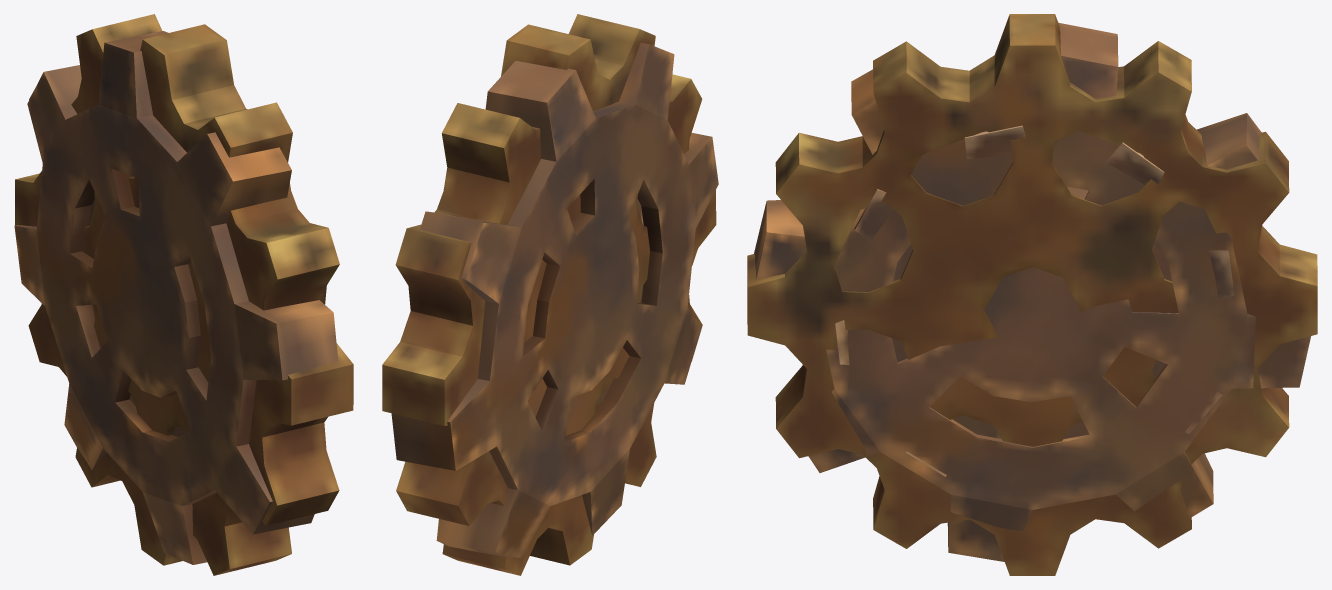
Rendered from F_gears_01.fbx.
3 renders of one model, left to right at view 1: azimuth 30°, elevation 25°; view 2: azimuth 150°, elevation 25°; view 3: azimuth 270°, elevation 25°, orthographic. The views are drawn at different scales.
Parts seen in each view (by area): view 1: f_gear_02, f_gear_01; view 2: f_gear_02, f_gear_01; view 3: f_gear_01, f_gear_02, f_gear_03.
Boxes of the visible parts, x1,y1,x2,y2 form: f_gear_02: [14, 31, 338, 564]; f_gear_01: [15, 14, 353, 575]; f_gear_02: [391, 42, 718, 558]; f_gear_01: [382, 14, 716, 575]; f_gear_01: [747, 14, 1317, 575]; f_gear_02: [754, 22, 1310, 561]; f_gear_03: [835, 125, 1234, 476].
Size of the model in its own units: 0.0507 by 0.3031 by 0.2951.
